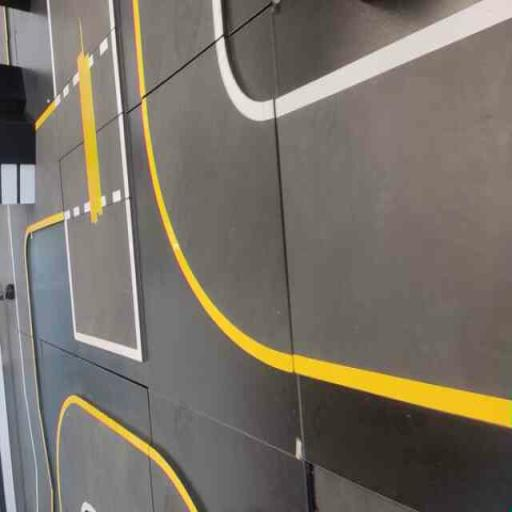right: (140, 37, 294, 375)
